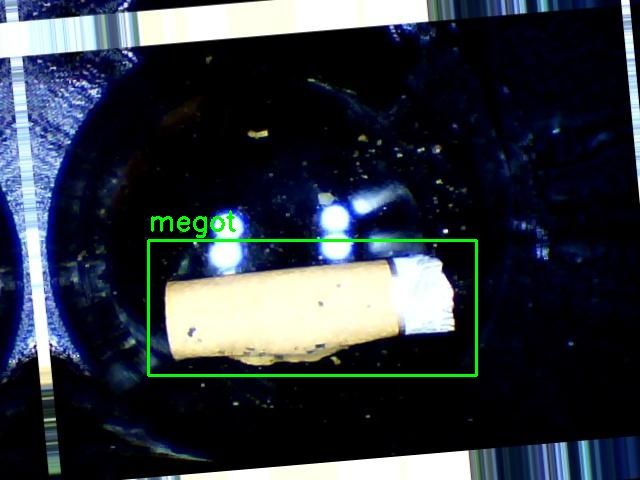megot: (148, 240, 476, 375)
